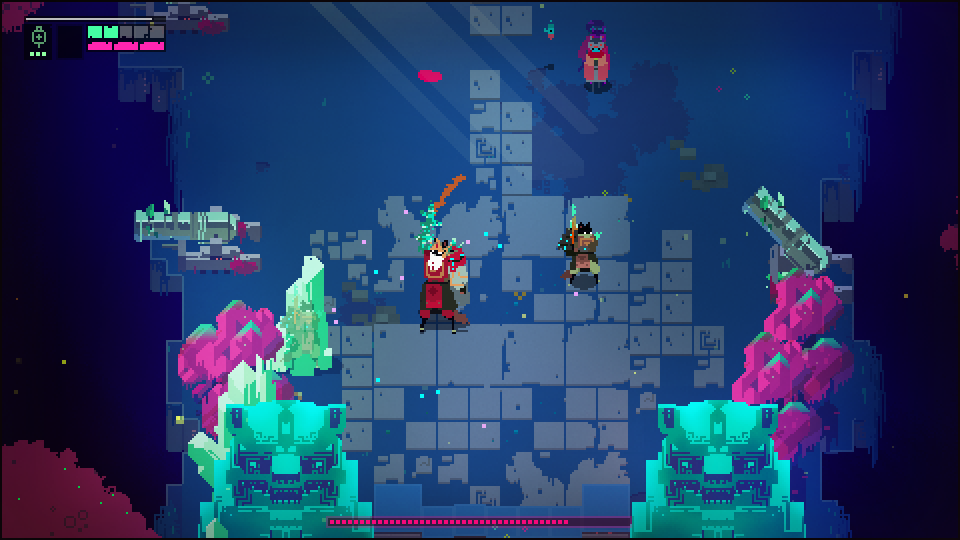hanged_man: (415, 196, 476, 333)
player: (580, 33, 611, 95)
